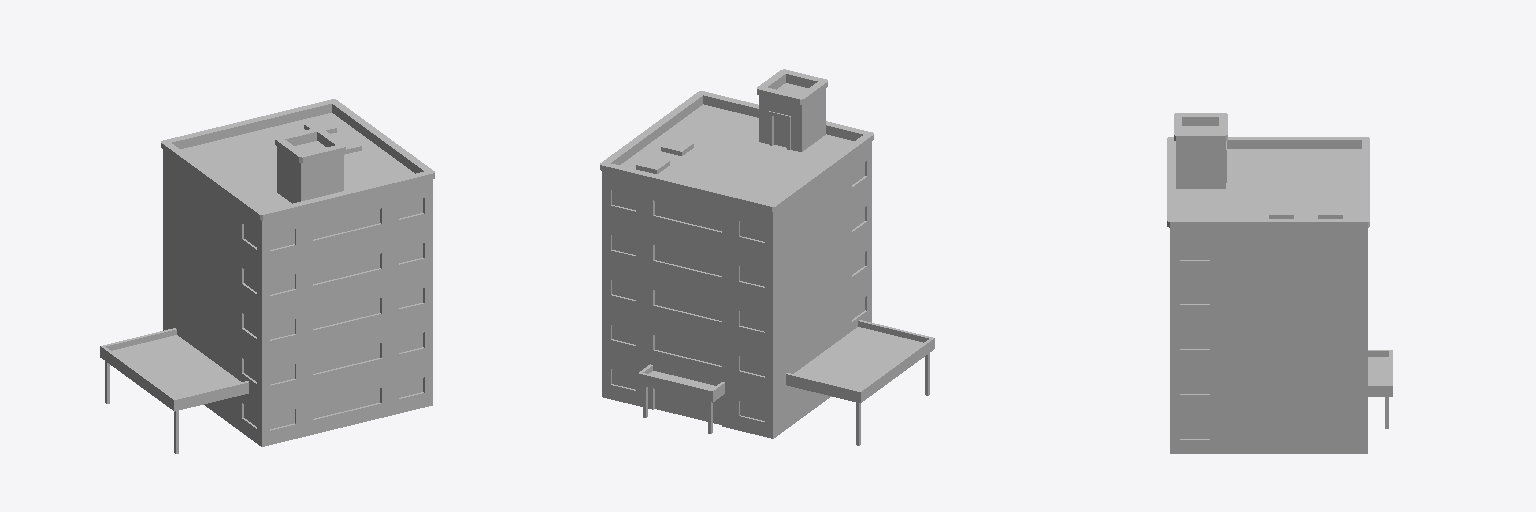
Rendered from large_building_g.obj.
The picture shows the model from 3 angles: view 1: azimuth 30°, elevation 25°; view 2: azimuth 150°, elevation 25°; view 3: azimuth 270°, elevation 25°; orthographic projection.
Visible parts, largest first — view 1: large_buildingG; view 2: large_buildingG; view 3: large_buildingG.
Boxes of the visible parts, box(x1,y1,x2,y2) form: large_buildingG: box(100, 99, 434, 453); large_buildingG: box(600, 69, 934, 445); large_buildingG: box(1167, 113, 1392, 453).
Bounding box in the file's own units: 4.64 × 4.96 × 3.64.